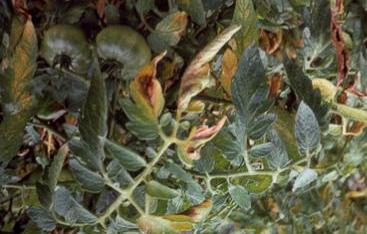Tomato Early blight leaf: (173, 26, 243, 118), (1, 0, 40, 113), (128, 53, 167, 143), (140, 197, 219, 234), (176, 117, 234, 164), (35, 142, 70, 214)
Tomato leaf: (72, 63, 110, 166), (230, 46, 269, 141), (295, 100, 318, 156)
